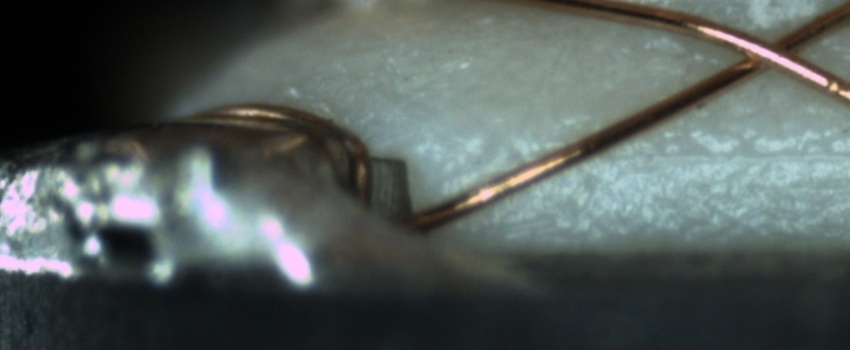CL: (719, 18, 824, 82)
DL: (528, 124, 849, 188)
TE: (185, 95, 376, 214)
